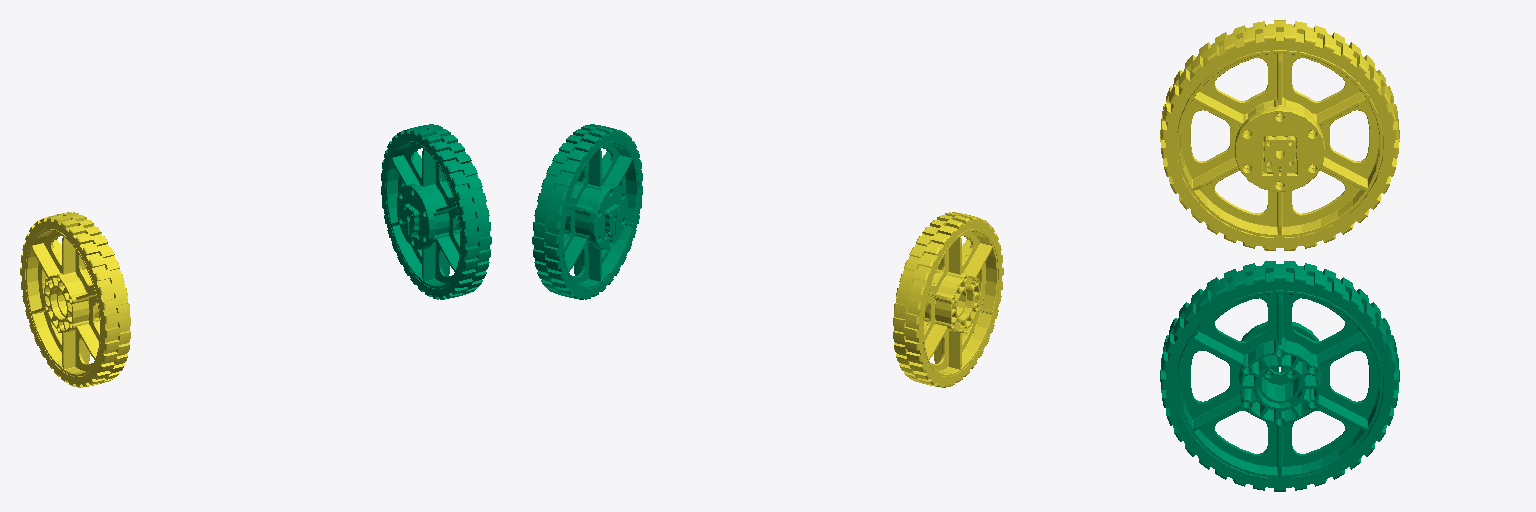
robot.urdf — open_abcrover:
<robot name="open_abcrover">
    <link name="base_footprint"/>

    <joint name="base_joint" type="fixed">
        <origin xyz="0 0 0.1332"/>
        <parent link="base_footprint"/>
        <child link="base_frame"/>
    </joint>

    <link name="base_frame">
        <visual>
            <geometry>
                <mesh filename="package://open_abcrover/description/meshes/base_frame_outdoor.stl"/>
            </geometry>
        </visual>
    </link>

    <joint name="base_to_leftwheel" type="continuous">
        <origin xyz="0.1535 -0.085 -0.057"/>
        <axis xyz="1 0 0"/>
        <parent link="base_frame"/>
        <child link="left_wheel"/>
    </joint>

    <link name="left_wheel">
        <visual>
            <geometry>
                <mesh filename="package://open_abcrover/description/meshes/wheel_left.stl"/>
            </geometry>
        </visual>
    </link>

    <joint name="base_to_rightwheel" type="continuous">
        <origin xyz="-0.1535 -0.085 -0.057"/>
        <axis xyz="1 0 0"/>
        <parent link="base_frame"/>
        <child link="right_wheel"/>
    </joint>

    <link name="right_wheel">
        <visual>    
            <geometry>
                <mesh filename="package://open_abcrover/description/meshes/wheel_right.stl"/>
            </geometry>
        </visual>
    </link>
</robot>

--- Render facts (derived) ---
3 views of the same robot in one strip: view 1: azimuth 30°, elevation 25°; view 2: azimuth 150°, elevation 25°; view 3: azimuth 270°, elevation 25° (orthographic).
Model open_abcrover with 4 links and 3 joints (2 continuous, 1 fixed), rooted at base_footprint, posed every joint at zero.
Visible links, largest first — view 1: left_wheel, right_wheel; view 2: left_wheel, right_wheel; view 3: right_wheel, left_wheel.
Link boxes in pixels (x1,y1,x2,y2): left_wheel: [381, 124, 491, 299]; right_wheel: [20, 212, 130, 387]; left_wheel: [532, 124, 642, 299]; right_wheel: [893, 212, 1003, 387]; right_wheel: [1160, 20, 1399, 250]; left_wheel: [1160, 261, 1399, 491].
Bounding box of the posed robot: 0.3968 × 0.1524 × 0.1524 m (x, y, z).
2 mesh visuals loaded from 3 distinct referenced files (2 binary STL); not drawn: 1 (reference not matched to a file when rendering).